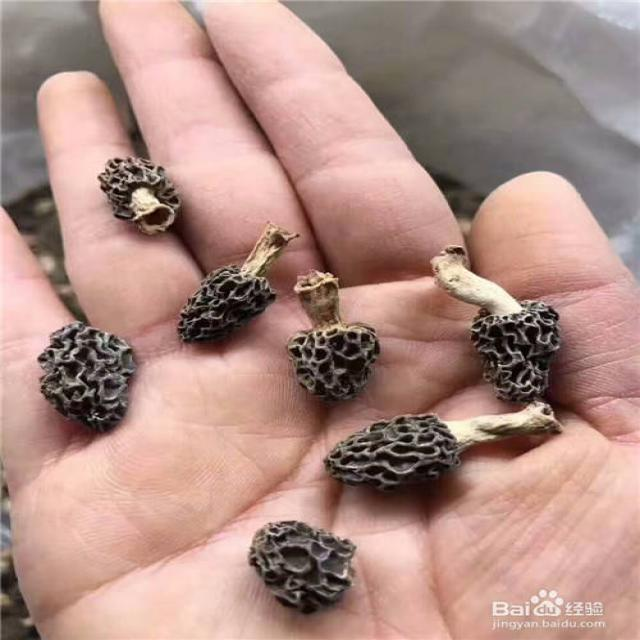Morchella esculenta: (429, 244, 560, 401), (320, 404, 561, 487), (182, 227, 291, 343), (290, 268, 380, 397), (37, 324, 138, 430), (252, 518, 361, 604), (101, 155, 176, 229)
